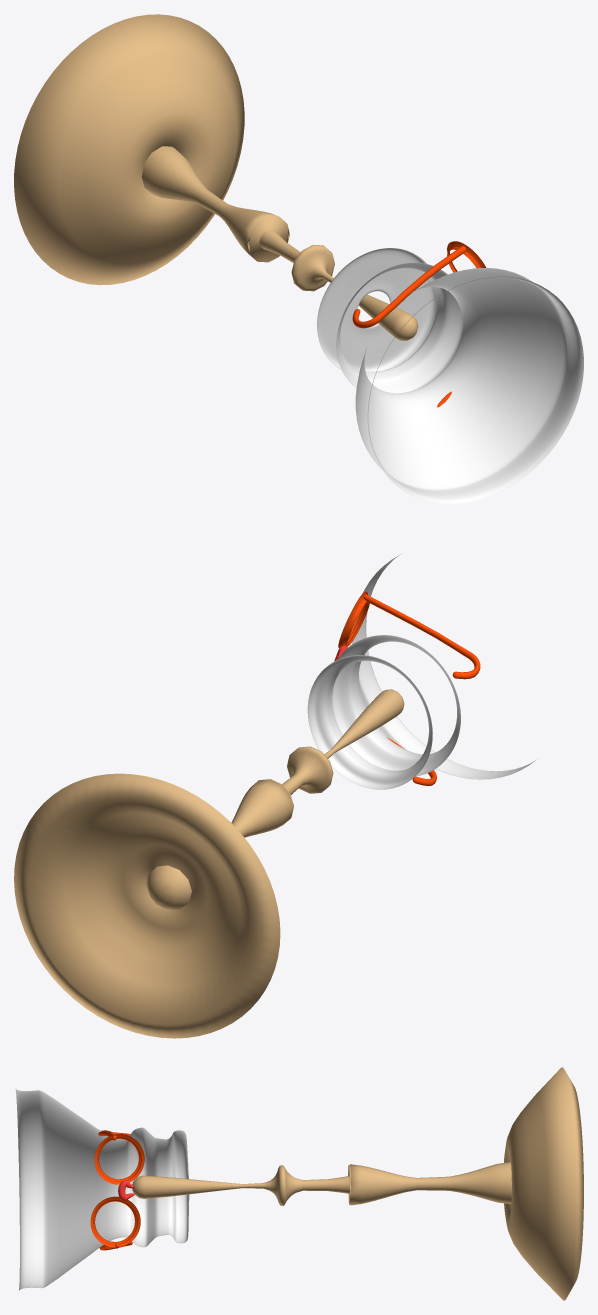
File: swag-lamp.gltf
3 renders of one model, top to bottom at view 1: azimuth 30°, elevation 25°; view 2: azimuth 150°, elevation 25°; view 3: azimuth 270°, elevation 25°, orthographic. The views are drawn at different scales.
Visible parts, largest first — view 1: r.0096, r.0093, s.0111, s.0104; view 2: r.0093, r.0096, s.0111, s.0104, s.0102Thicken; view 3: r.0096, r.0093, s.0111, s.0103Thicken, s.0102Thicken.
Part boxes in pixels (x1=…): r.0096: x1=317, y1=248, x2=583, y2=504; r.0093: x1=14, y1=14, x2=244, y2=285; s.0111: x1=141, y1=146, x2=418, y2=340; s.0104: x1=352, y1=246, x2=465, y2=328; r.0093: x1=14, y1=773, x2=280, y2=1038; r.0096: x1=307, y1=554, x2=535, y2=789; s.0111: x1=146, y1=689, x2=404, y2=910; s.0104: x1=363, y1=594, x2=480, y2=679; s.0102Thicken: x1=338, y1=591, x2=369, y2=649; r.0096: x1=15, y1=1088, x2=189, y2=1290; r.0093: x1=504, y1=1067, x2=583, y2=1300; s.0111: x1=132, y1=1162, x2=511, y2=1205; s.0103Thicken: x1=90, y1=1196, x2=140, y2=1247; s.0102Thicken: x1=94, y1=1134, x2=144, y2=1184.
Size of the model in its own units: 102 by 103 by 251.
